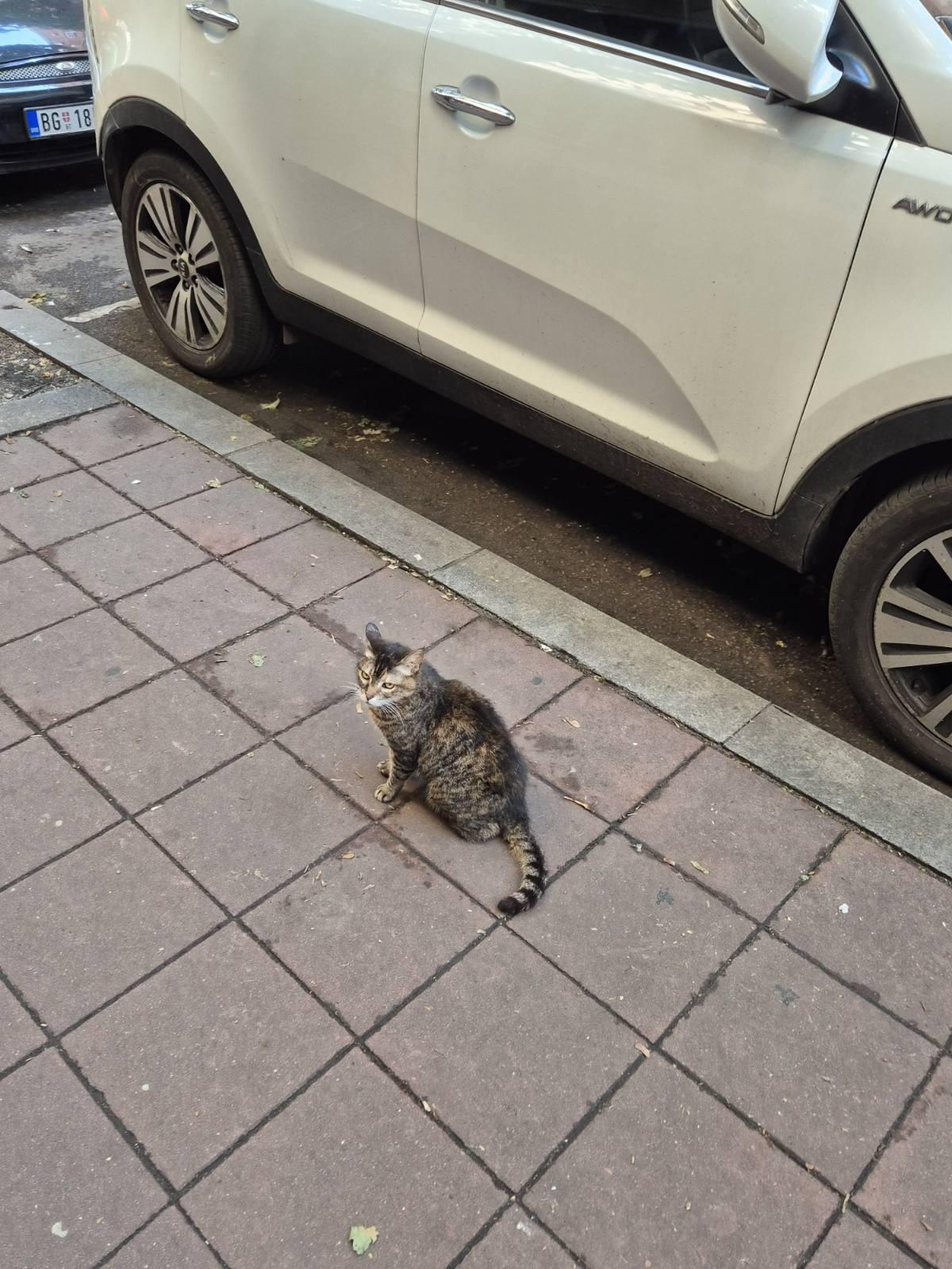macka: (357, 622, 548, 916)
